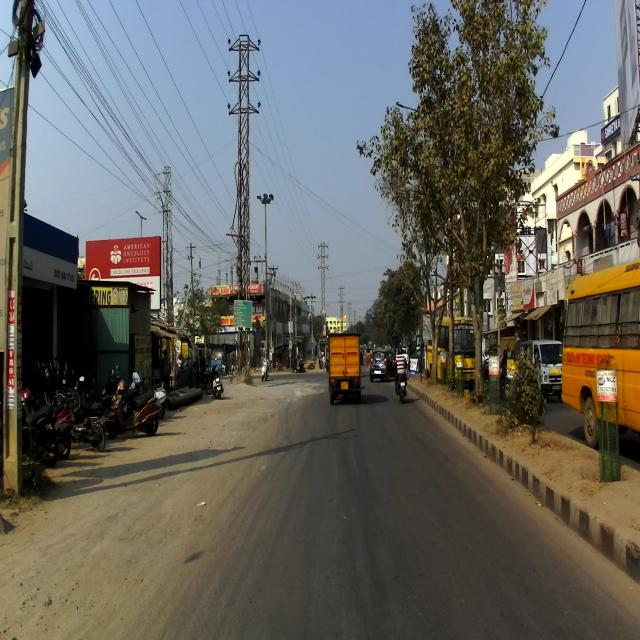auto ahead at: (329, 331, 360, 398)
motorcycle ahead at: (105, 376, 161, 437)
